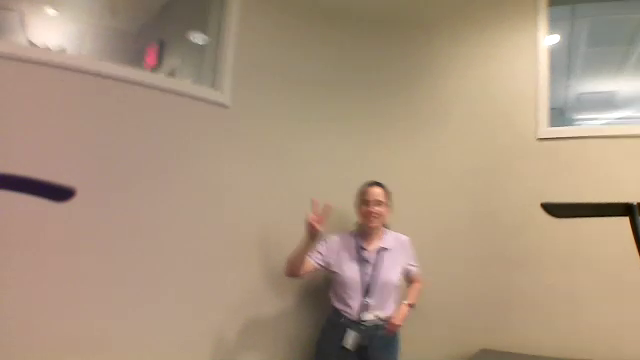peace: (304, 192, 334, 241)
